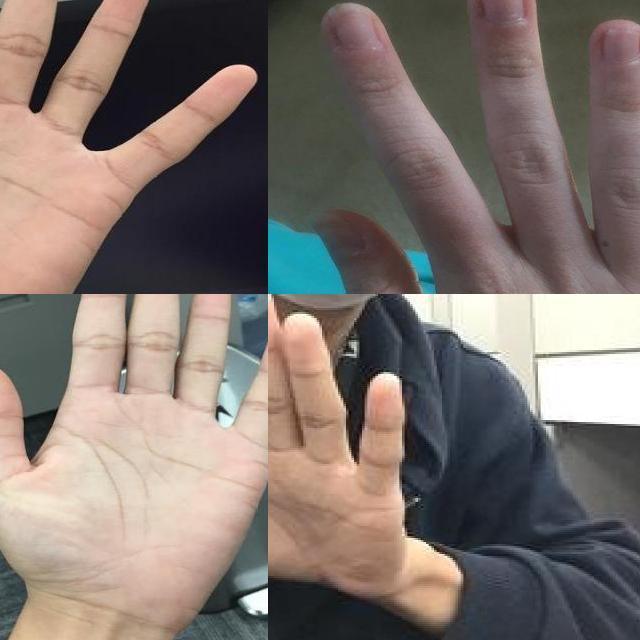no-gloves: (318, 0, 640, 294), (0, 294, 268, 640), (0, 0, 268, 294), (268, 294, 427, 596)
